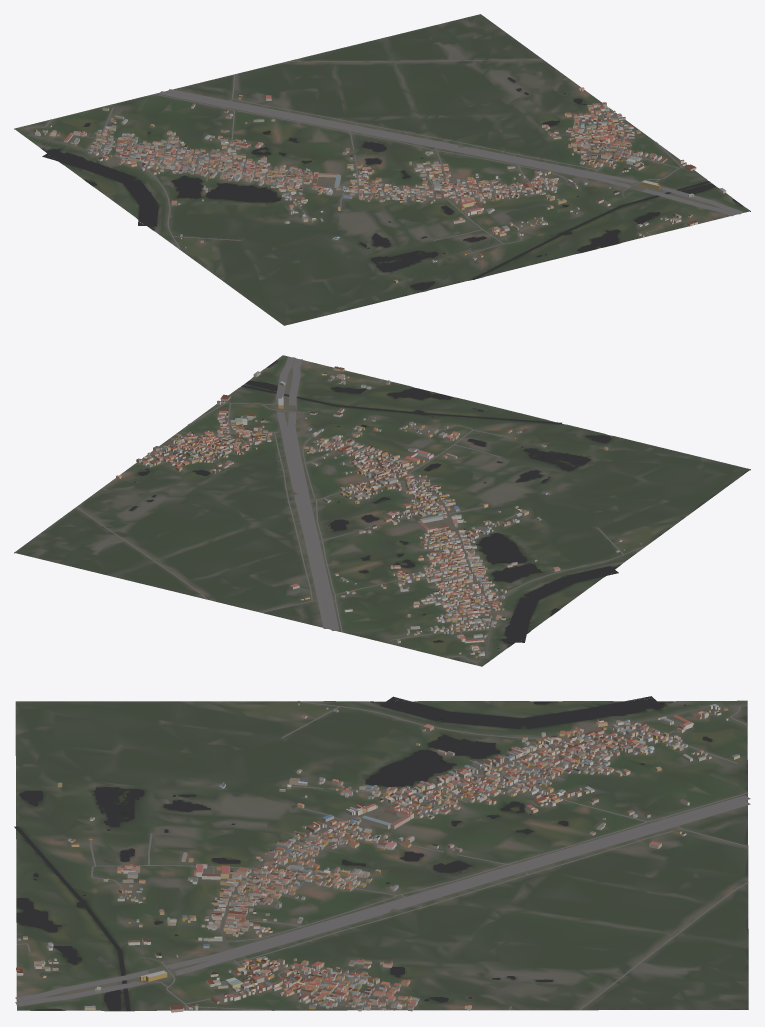
The picture shows the model from 3 angles, top to bottom: view 1: azimuth 30°, elevation 25°; view 2: azimuth 150°, elevation 25°; view 3: azimuth 270°, elevation 25°; orthographic projection. The views are drawn at different scales.
Visible parts, largest first — view 1: ground, buildings, roads, water; view 2: ground, buildings, roads, water; view 3: ground, buildings, roads, water.
Part boxes in pixels (x1,y1,x2,y2): ground: (14,14,750,325); buildings: (34,87,726,283); roads: (20,59,743,253); water: (42,77,743,290); ground: (14,355,750,666); buildings: (116,366,641,658); roads: (76,357,647,664); water: (129,360,619,648); ground: (15,700,748,1011); buildings: (16,703,739,1012); roads: (15,701,750,1010); water: (14,696,712,1011).
Bounding box in the file's own units: 1435 × 16.62 × 1411.
